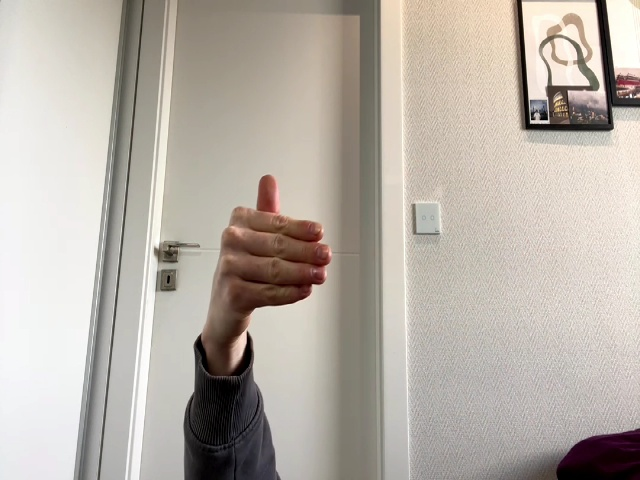M: (214, 175, 332, 328)
